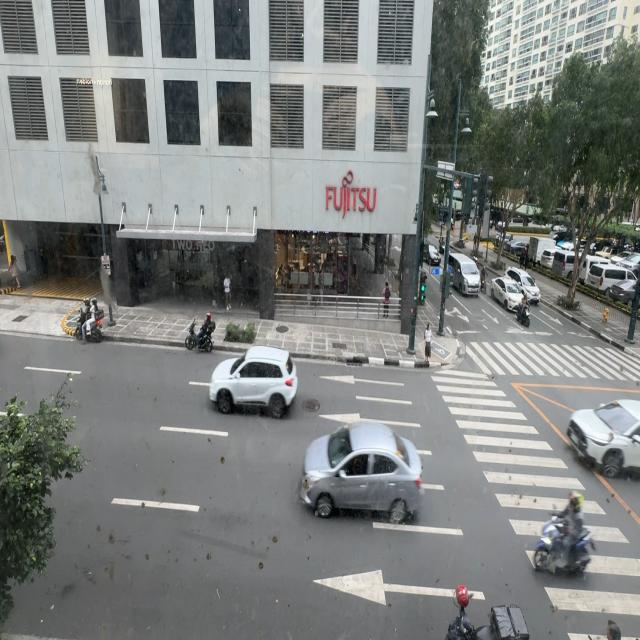pedestrain: (9, 254, 21, 288), (382, 282, 391, 316), (224, 273, 232, 311)
waiting: (424, 323, 432, 361)
